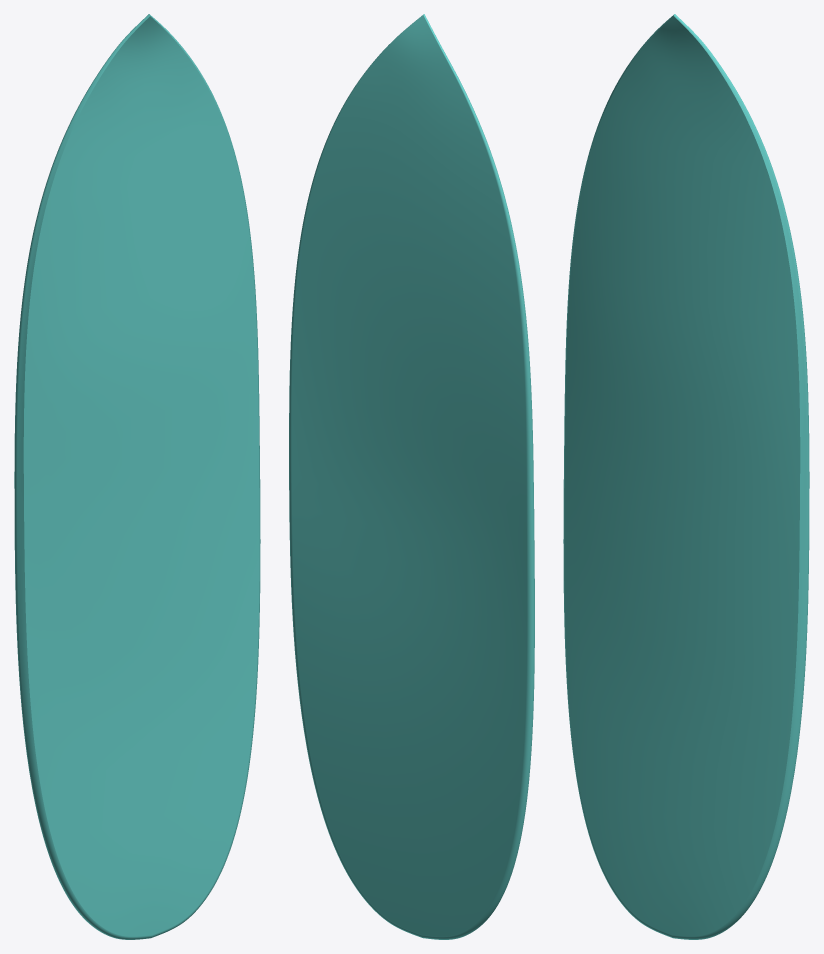
The model's file is surf.gltf.
3 views of the same model, side by side, from view 1: azimuth 30°, elevation 25°; view 2: azimuth 150°, elevation 25°; view 3: azimuth 330°, elevation 25° (orthographic).
Visible parts, largest first — view 1: mesh2_meshnode_2, mesh0_meshnode_0, mesh1_meshnode_1; view 2: mesh3_meshnode_3, mesh0_meshnode_0, mesh1_meshnode_1; view 3: mesh2_meshnode_2, mesh1_meshnode_1, mesh0_meshnode_0.
Part boxes in pixels (x1,y1,x2,y2): mesh2_meshnode_2: (23, 16, 259, 936); mesh0_meshnode_0: (14, 14, 151, 939); mesh1_meshnode_1: (150, 15, 260, 937); mesh3_meshnode_3: (291, 15, 526, 936); mesh0_meshnode_0: (421, 14, 534, 939); mesh1_meshnode_1: (289, 14, 423, 937); mesh2_meshnode_2: (564, 16, 800, 936); mesh1_meshnode_1: (672, 14, 809, 939); mesh0_meshnode_0: (563, 15, 673, 937).
Size of the model in its own units: 0.518 by 1.87 by 0.0647.
